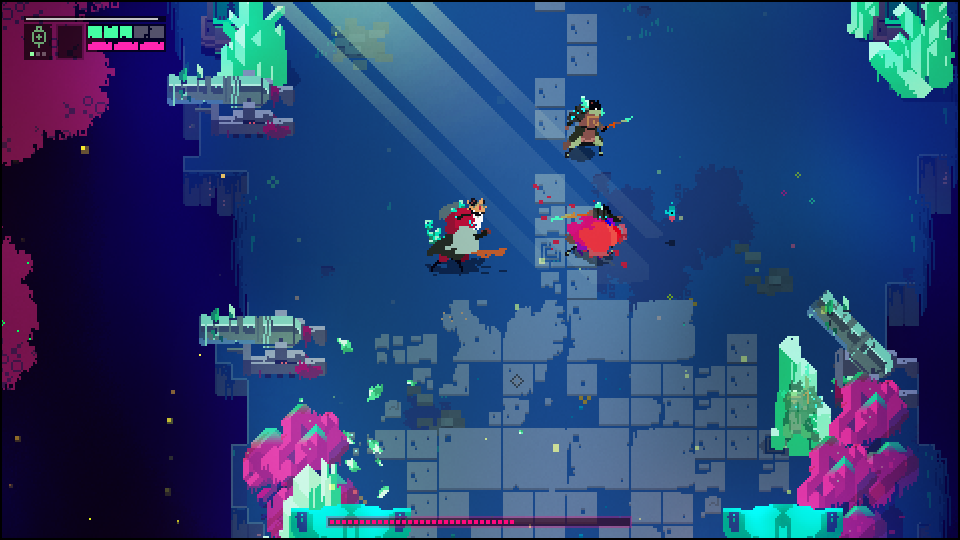hanged_man: (421, 188, 506, 284)
player: (565, 216, 629, 258)
